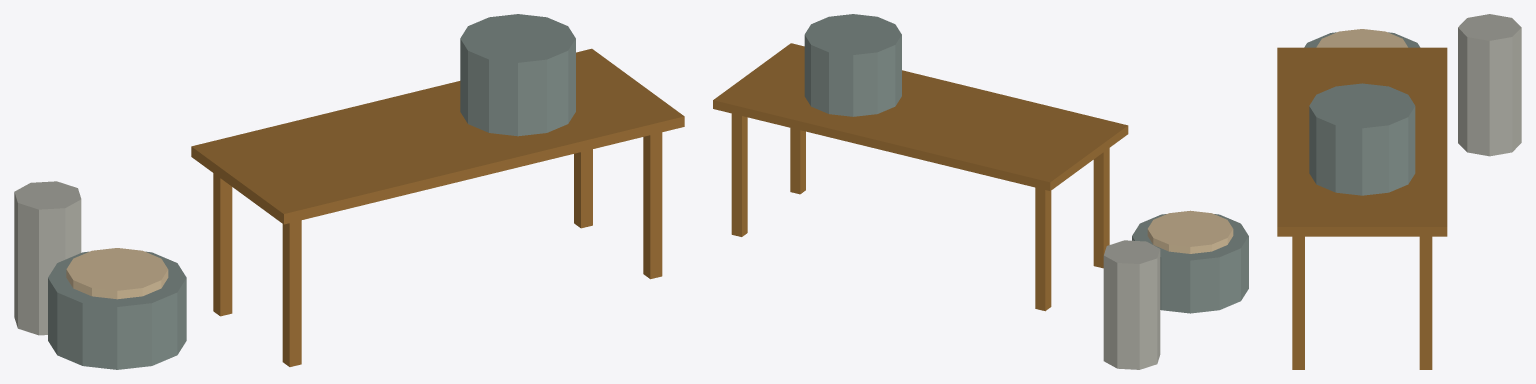
Rendered from SM_CocinaCampana_v0_Olla_LOD0.fbx.
3 renders of one model, left to right at view 1: azimuth 30°, elevation 25°; view 2: azimuth 150°, elevation 25°; view 3: azimuth 270°, elevation 25°, orthographic. The views are drawn at different scales.
Parts seen in each view (by area): view 1: SM_vida_fuerte_v20_LOD0, Emision; view 2: SM_vida_fuerte_v20_LOD0, Emision; view 3: SM_vida_fuerte_v20_LOD0, Emision.
Part boxes in pixels (x1,y1,x2,y2): SM_vida_fuerte_v20_LOD0: (14,14,684,369); Emision: (66,248,168,299); SM_vida_fuerte_v20_LOD0: (713,14,1248,369); Emision: (1147,210,1233,253); SM_vida_fuerte_v20_LOD0: (1277,14,1521,369); Emision: (1316,29,1407,47).
Size of the model in its own units: 2.9 by 1.12 by 1.15.
